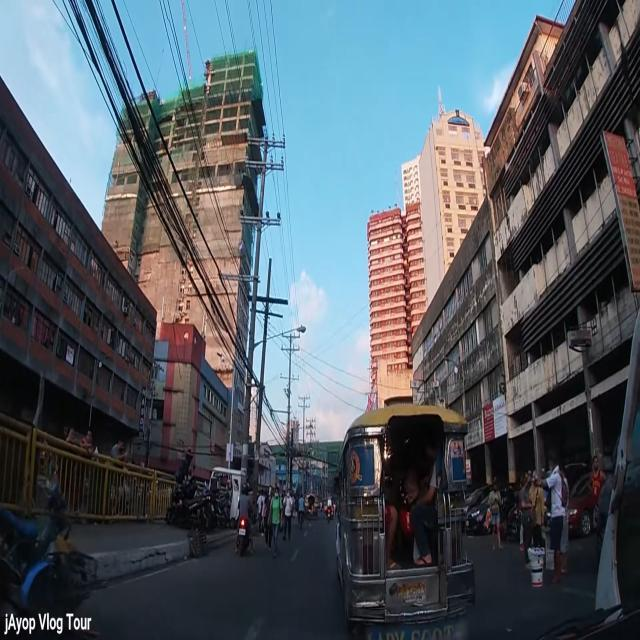bike: (298, 492, 305, 530)
car: (464, 482, 518, 535), (566, 470, 606, 538)
jeepney: (336, 403, 476, 640), (305, 492, 318, 520)
motorcycle: (0, 470, 63, 604), (166, 476, 212, 532), (236, 484, 254, 558), (326, 495, 332, 523)
tricycle: (208, 467, 248, 529)
